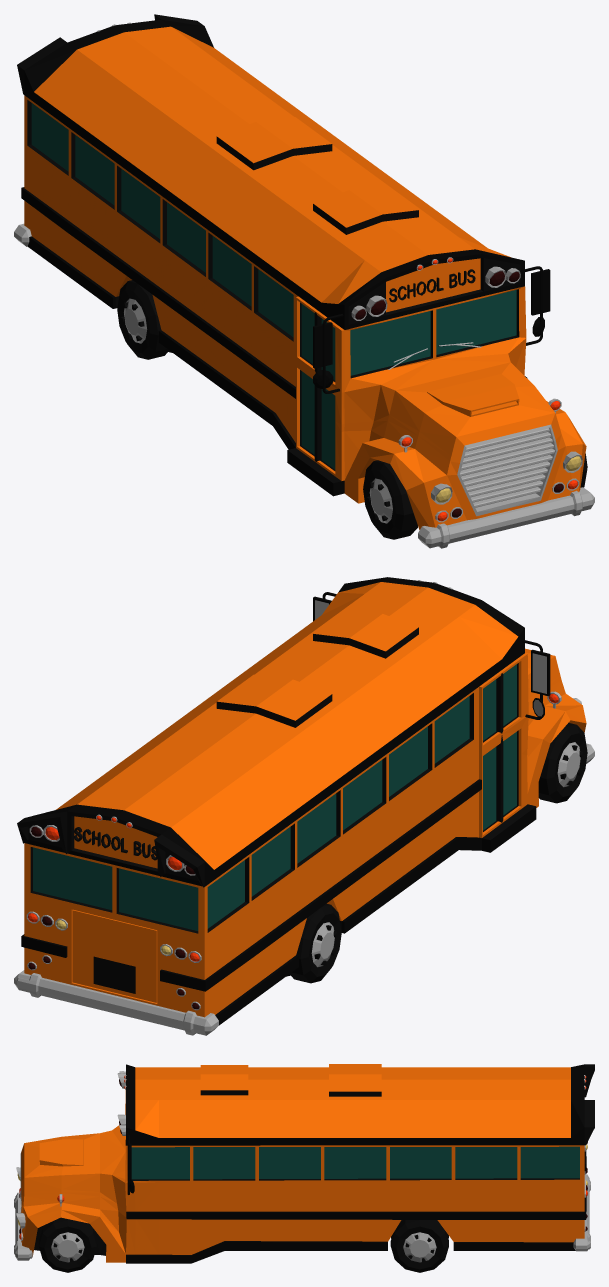
The model's file is Schoolbus.FBX.
3 views of the same model, one above another, from view 1: azimuth 30°, elevation 25°; view 2: azimuth 150°, elevation 25°; view 3: azimuth 270°, elevation 25° (orthographic). The views are drawn at different scales.
Parts seen in each view (by area): view 1: Schoolbus, interieur, grill, bumper_f, wheel_f_r, wheel_b_r, mirrors, lights, signalLights; view 2: Schoolbus, interieur, bumper_b, wheel_f_r, wheel_b_r, mirrors, lights; view 3: Schoolbus, wheel_f_l, wheel_b_l, interieur, lights, bumper_f, bumper_b, mirrors.
Part boxes in pixels (x1,y1,x2,y2): Schoolbus: (17,14,586,529); interieur: (31,106,496,469); grill: (460,428,554,507); bumper_f: (418,487,594,548); wheel_f_r: (363,460,417,539); wheel_b_r: (117,280,172,359); mirrors: (313,266,550,393); lights: (97,22,582,522); signalLights: (355,258,563,517); Schoolbus: (17,577,586,1025); interieur: (33,679,516,928); bumper_b: (14,970,218,1035); wheel_f_r: (538,722,587,803); wheel_b_r: (286,903,341,983); mirrors: (313,592,550,719); lights: (26,580,581,1010); Schoolbus: (20,1064,594,1263); wheel_f_l: (38,1217,96,1272); wheel_b_l: (390,1220,448,1272); interieur: (131,1147,189,1179); lights: (16,1071,585,1240); bumper_f: (14,1192,32,1260); bumper_b: (573,1174,590,1251); mirrors: (127,1135,134,1194).
Size of the model in its own units: 37.71 by 35.58 by 112.
